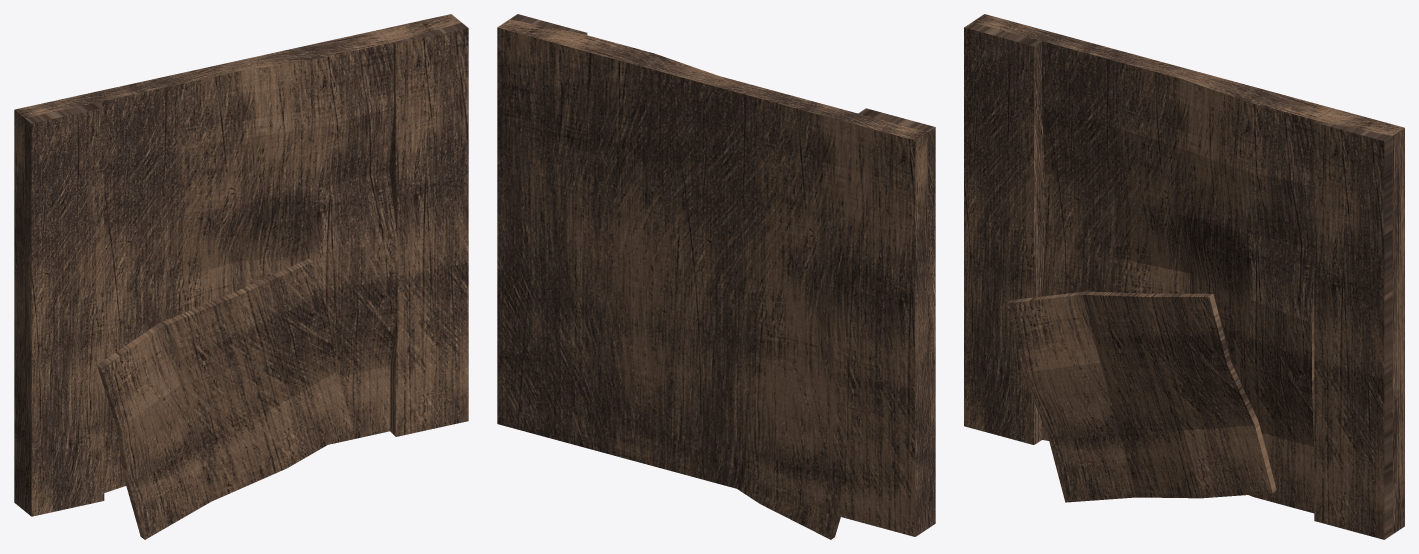
File: Wood3.fbx
The picture shows the model from 3 angles, left to right: view 1: azimuth 30°, elevation 25°; view 2: azimuth 150°, elevation 25°; view 3: azimuth 330°, elevation 25°; orthographic projection.
Parts seen in each view (by area): view 1: Cube.001; view 2: Cube.001; view 3: Cube.001.
Part boxes in pixels (left/top/right/bottom): Cube.001: left=14, top=14, right=468, bottom=539; Cube.001: left=497, top=14, right=935, bottom=539; Cube.001: left=964, top=14, right=1404, bottom=539.
Bounding box in the file's own units: 177 × 174 × 27.72.
Materials: 1 (1 with a texture image).
